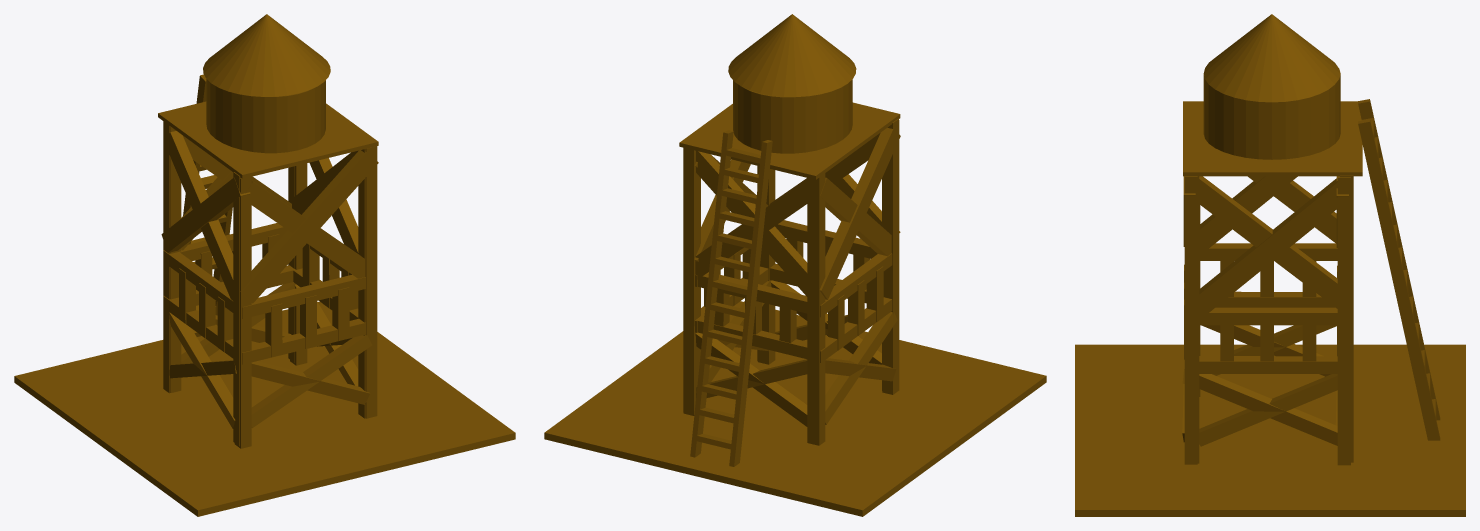
Rendered from torredeagua.glb.
3 renders of one model, left to right at view 1: azimuth 30°, elevation 25°; view 2: azimuth 150°, elevation 25°; view 3: azimuth 270°, elevation 25°, orthographic. The views are drawn at different scales.
Parts seen in each view (by area): view 1: TORREDEAGUA; view 2: TORREDEAGUA; view 3: TORREDEAGUA.
Part boxes in pixels (x1,y1,x2,y2): TORREDEAGUA: (14,14,515,516); TORREDEAGUA: (544,14,1046,516); TORREDEAGUA: (1075,14,1465,516).
Bounding box in the file's own units: 18.69 × 22.45 × 18.69.
